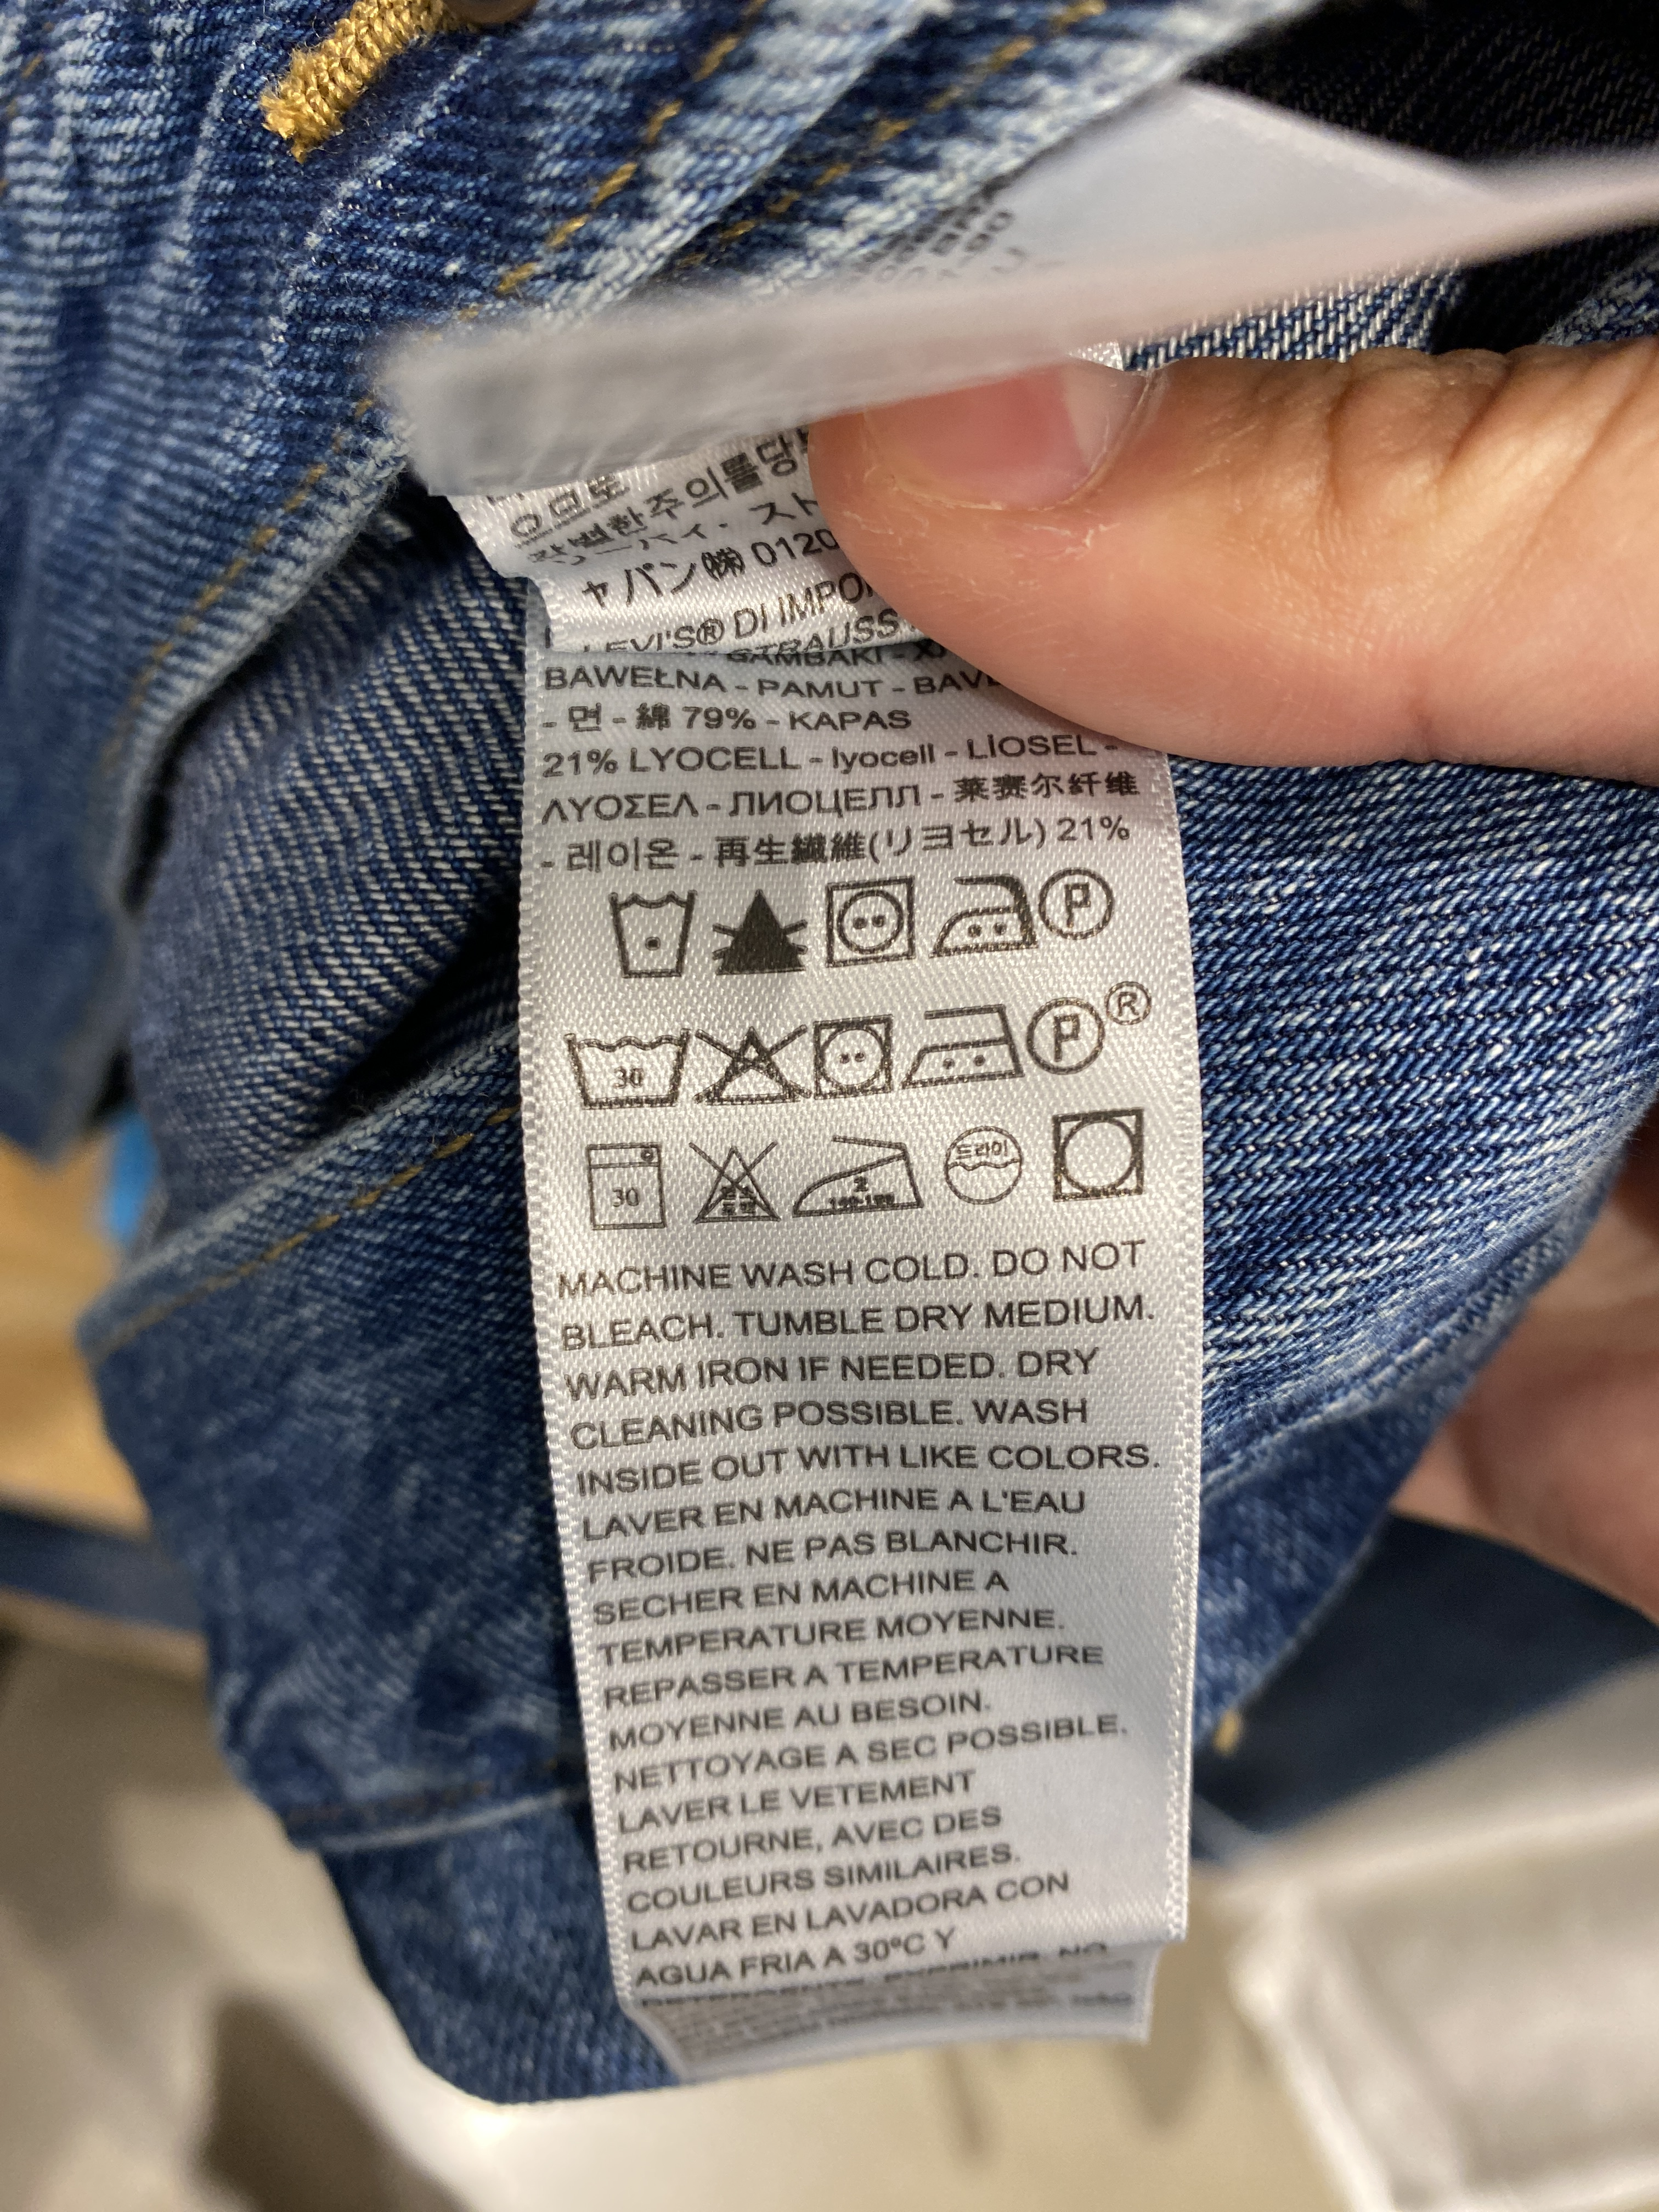icon: (565, 1022, 692, 1120), (788, 1129, 924, 1219), (692, 1015, 812, 1115), (897, 1001, 1028, 1092), (704, 885, 816, 982), (1047, 1106, 1150, 1207), (927, 871, 1039, 961), (826, 871, 924, 970), (685, 1137, 786, 1228), (807, 1010, 901, 1106), (580, 1143, 673, 1237), (608, 890, 697, 982), (939, 1123, 1028, 1211), (1018, 995, 1108, 1078), (1033, 867, 1117, 939)
